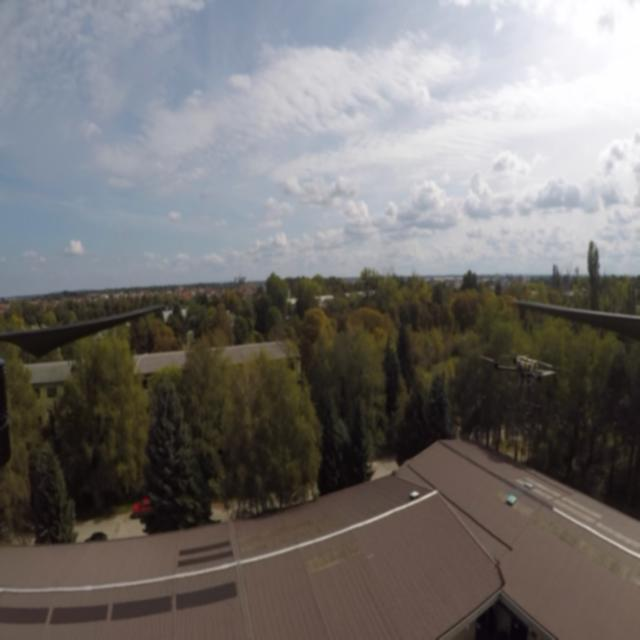UAV: (481, 350, 573, 415)
